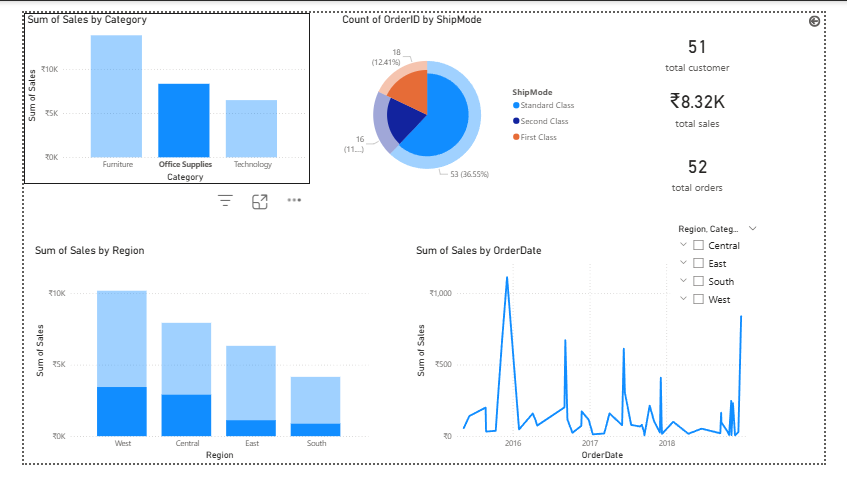

The dashboard page shown, as its layout file describes it:
{"tool":"powerbi","page":{"name":"Page 1","canvas":[1280,720],"ordinal":0},"visuals":[{"type":"clusteredColumnChart","fields":{"Y":["Sum(new1.Sales)"],"Category":["new1.Category"]},"box":[0,0,457.8,274.9],"z":0},{"type":"clusteredColumnChart","fields":{"Y":["Sum(new1.Sales)"],"Category":["new1.Region"]},"box":[12,369,544,351],"z":1000},{"type":"pieChart","fields":{"Category":["new1.ShipMode"],"Y":["CountNonNull(new1.OrderID)"]},"box":[503.8,0,390.6,307.3],"z":2000},{"type":"lineChart","fields":{"Category":["new1.OrderDate"],"Y":["Sum(new1.Sales)"]},"box":[622,369.5,543.6,350.8],"z":3000},{"type":"card","fields":{"Values":["Count(new1.CustomerID)"]},"box":[903.1,26.1,347.1,73.4],"z":4000},{"type":"actionButton","box":[0,0,100,40],"z":5000},{"type":"card","fields":{"Values":["Sum(new1.Sales)"]},"box":[903.1,99.5,347.1,103.2],"z":6000},{"type":"card","fields":{"Values":["Count(new1.OrderID)"]},"box":[903.1,202.8,347.1,104.5],"z":7000},{"type":"slicer","fields":{"Values":["new1.Region","new1.Category","new1.ShipMode"]},"box":[1033.7,332.1,150.5,148],"z":7001}]}

Visuals, with their boxes in screenshot pixels (x1, y1, x2, y2), scaled from the page's 1280x720 canvas onto the 847x485 screenshot:
clusteredColumnChart - Sum(new1.Sales) x new1.Category: (x1=0, y1=0, x2=303, y2=185)
clusteredColumnChart - Sum(new1.Sales) x new1.Region: (x1=8, y1=249, x2=368, y2=484)
pieChart - new1.ShipMode x CountNonNull(new1.OrderID): (x1=333, y1=0, x2=592, y2=207)
lineChart - new1.OrderDate x Sum(new1.Sales): (x1=412, y1=249, x2=771, y2=484)
card - Count(new1.CustomerID): (x1=598, y1=18, x2=827, y2=67)
actionButton: (x1=0, y1=0, x2=66, y2=27)
card - Sum(new1.Sales): (x1=598, y1=67, x2=827, y2=137)
card - Count(new1.OrderID): (x1=598, y1=137, x2=827, y2=207)
slicer - new1.Region x new1.Category: (x1=684, y1=224, x2=784, y2=323)
